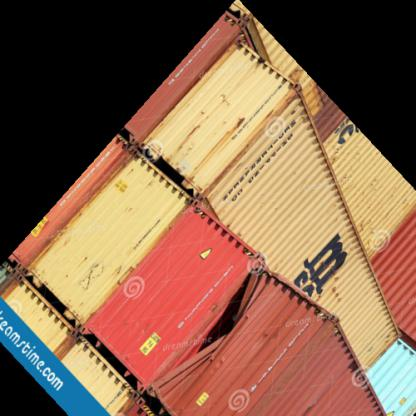Damage: (196, 284, 255, 352)
